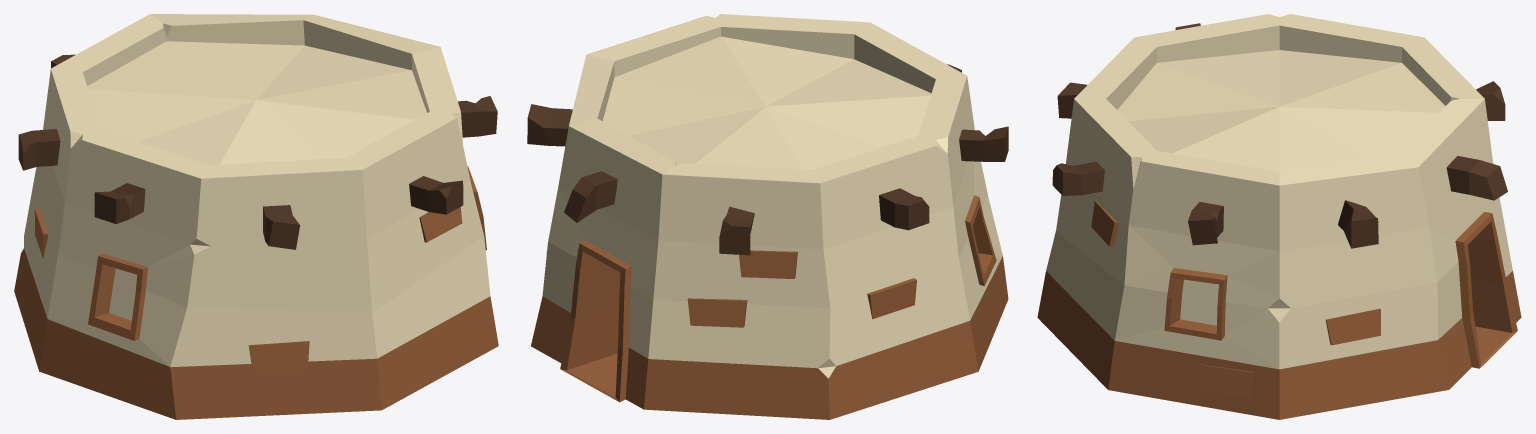
The model's file is House_3.fbx.
3 renders of one model, left to right at view 1: azimuth 30°, elevation 25°; view 2: azimuth 150°, elevation 25°; view 3: azimuth 270°, elevation 25°, orthographic. The views are drawn at different scales.
Visible parts, largest first — view 1: House_3; view 2: House_3; view 3: House_3.
Part boxes in pixels (left/top/right/bottom): House_3: left=14, top=14, right=498, bottom=419; House_3: left=527, top=14, right=1008, bottom=419; House_3: left=1037, top=14, right=1521, bottom=419.
Size of the model in its own units: 389 by 194 by 389.
